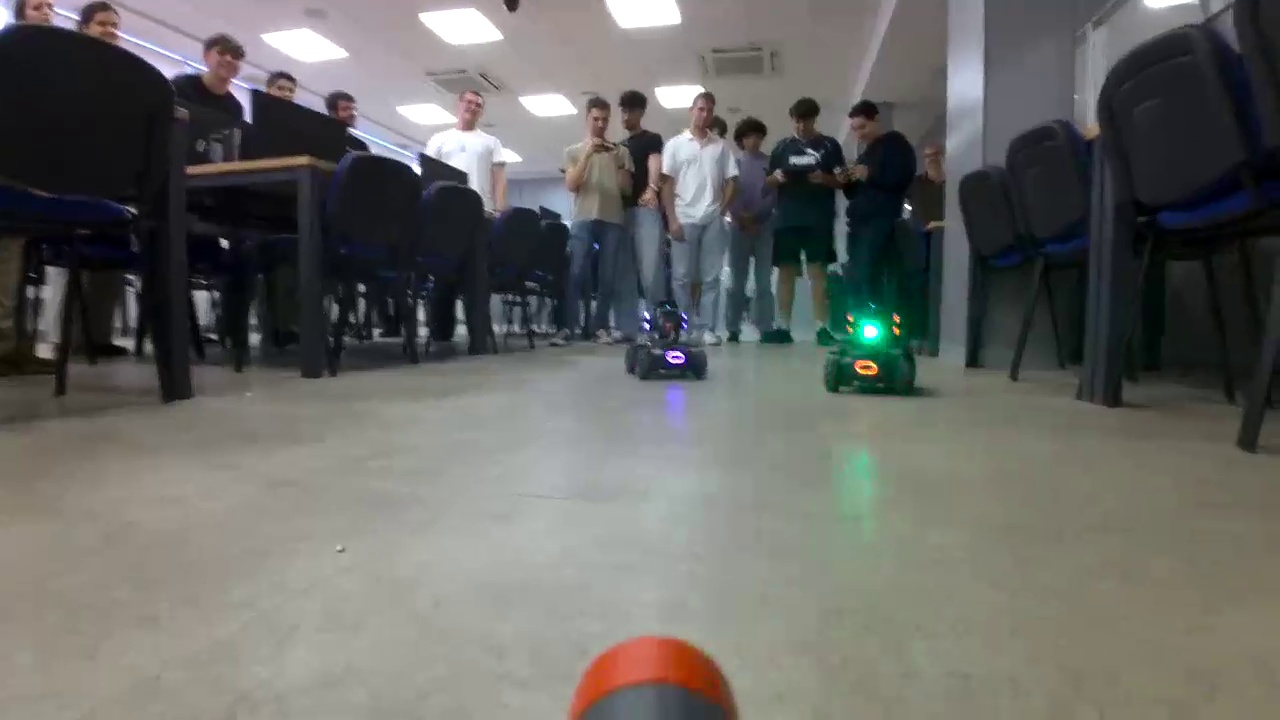robot: (822, 302, 917, 394), (624, 301, 709, 382)
